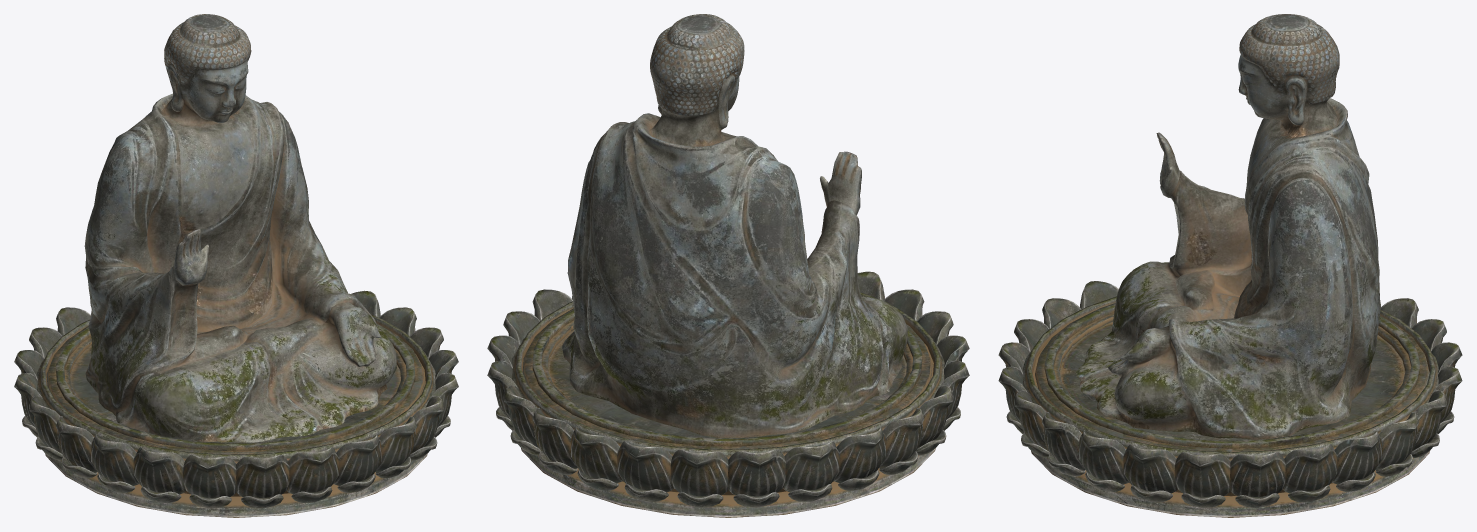
File: buda-1k.glb
3 views of the same model, side by side, from view 1: azimuth 30°, elevation 25°; view 2: azimuth 150°, elevation 25°; view 3: azimuth 270°, elevation 25° (orthographic). The views are drawn at different scales.
Parts seen in each view (by area): view 1: fo_L:polySurface18, all_LOW:di_zuoLgroup2, all_LOW:group3polySurface12, all_LOW:group3polySurface16, all_LOW:polySurface15group3, all_LOW:group3polySurface17; view 2: fo_L:polySurface18, all_LOW:di_zuoLgroup2, all_LOW:group3polySurface17, all_LOW:group3polySurface16, all_LOW:polySurface15group3, all_LOW:group3polySurface12; view 3: fo_L:polySurface18, all_LOW:di_zuoLgroup2, all_LOW:polySurface15group3, all_LOW:group3polySurface12, all_LOW:group3polySurface17, all_LOW:group3polySurface16.
Part boxes in pixels (x1=…): fo_L:polySurface18: x1=84, y1=14, x2=396, y2=442; all_LOW:di_zuoLgroup2: x1=36, y1=314, x2=435, y2=517; all_LOW:group3polySurface12: x1=183, y1=395, x2=443, y2=508; all_LOW:group3polySurface16: x1=14, y1=350, x2=186, y2=502; all_LOW:polySurface15group3: x1=351, y1=290, x2=458, y2=437; all_LOW:group3polySurface17: x1=29, y1=307, x2=90, y2=358; fo_L:polySurface18: x1=562, y1=14, x2=907, y2=437; all_LOW:di_zuoLgroup2: x1=512, y1=292, x2=944, y2=517; all_LOW:group3polySurface17: x1=503, y1=385, x2=785, y2=507; all_LOW:group3polySurface16: x1=783, y1=335, x2=969, y2=501; all_LOW:polySurface15group3: x1=487, y1=289, x2=572, y2=430; all_LOW:group3polySurface12: x1=857, y1=271, x2=953, y2=344; fo_L:polySurface18: x1=1076, y1=14, x2=1380, y2=439; all_LOW:di_zuoLgroup2: x1=1023, y1=296, x2=1438, y2=517; all_LOW:polySurface15group3: x1=1078, y1=430, x2=1381, y2=508; all_LOW:group3polySurface12: x1=998, y1=298, x2=1085, y2=476; all_LOW:group3polySurface17: x1=1375, y1=298, x2=1462, y2=476; all_LOW:group3polySurface16: x1=1080, y1=281, x2=1380, y2=309.
Bounding box in the file's own units: 0.0397 × 0.0388 × 0.0397.
Materials: 2 (2 with a texture image).
